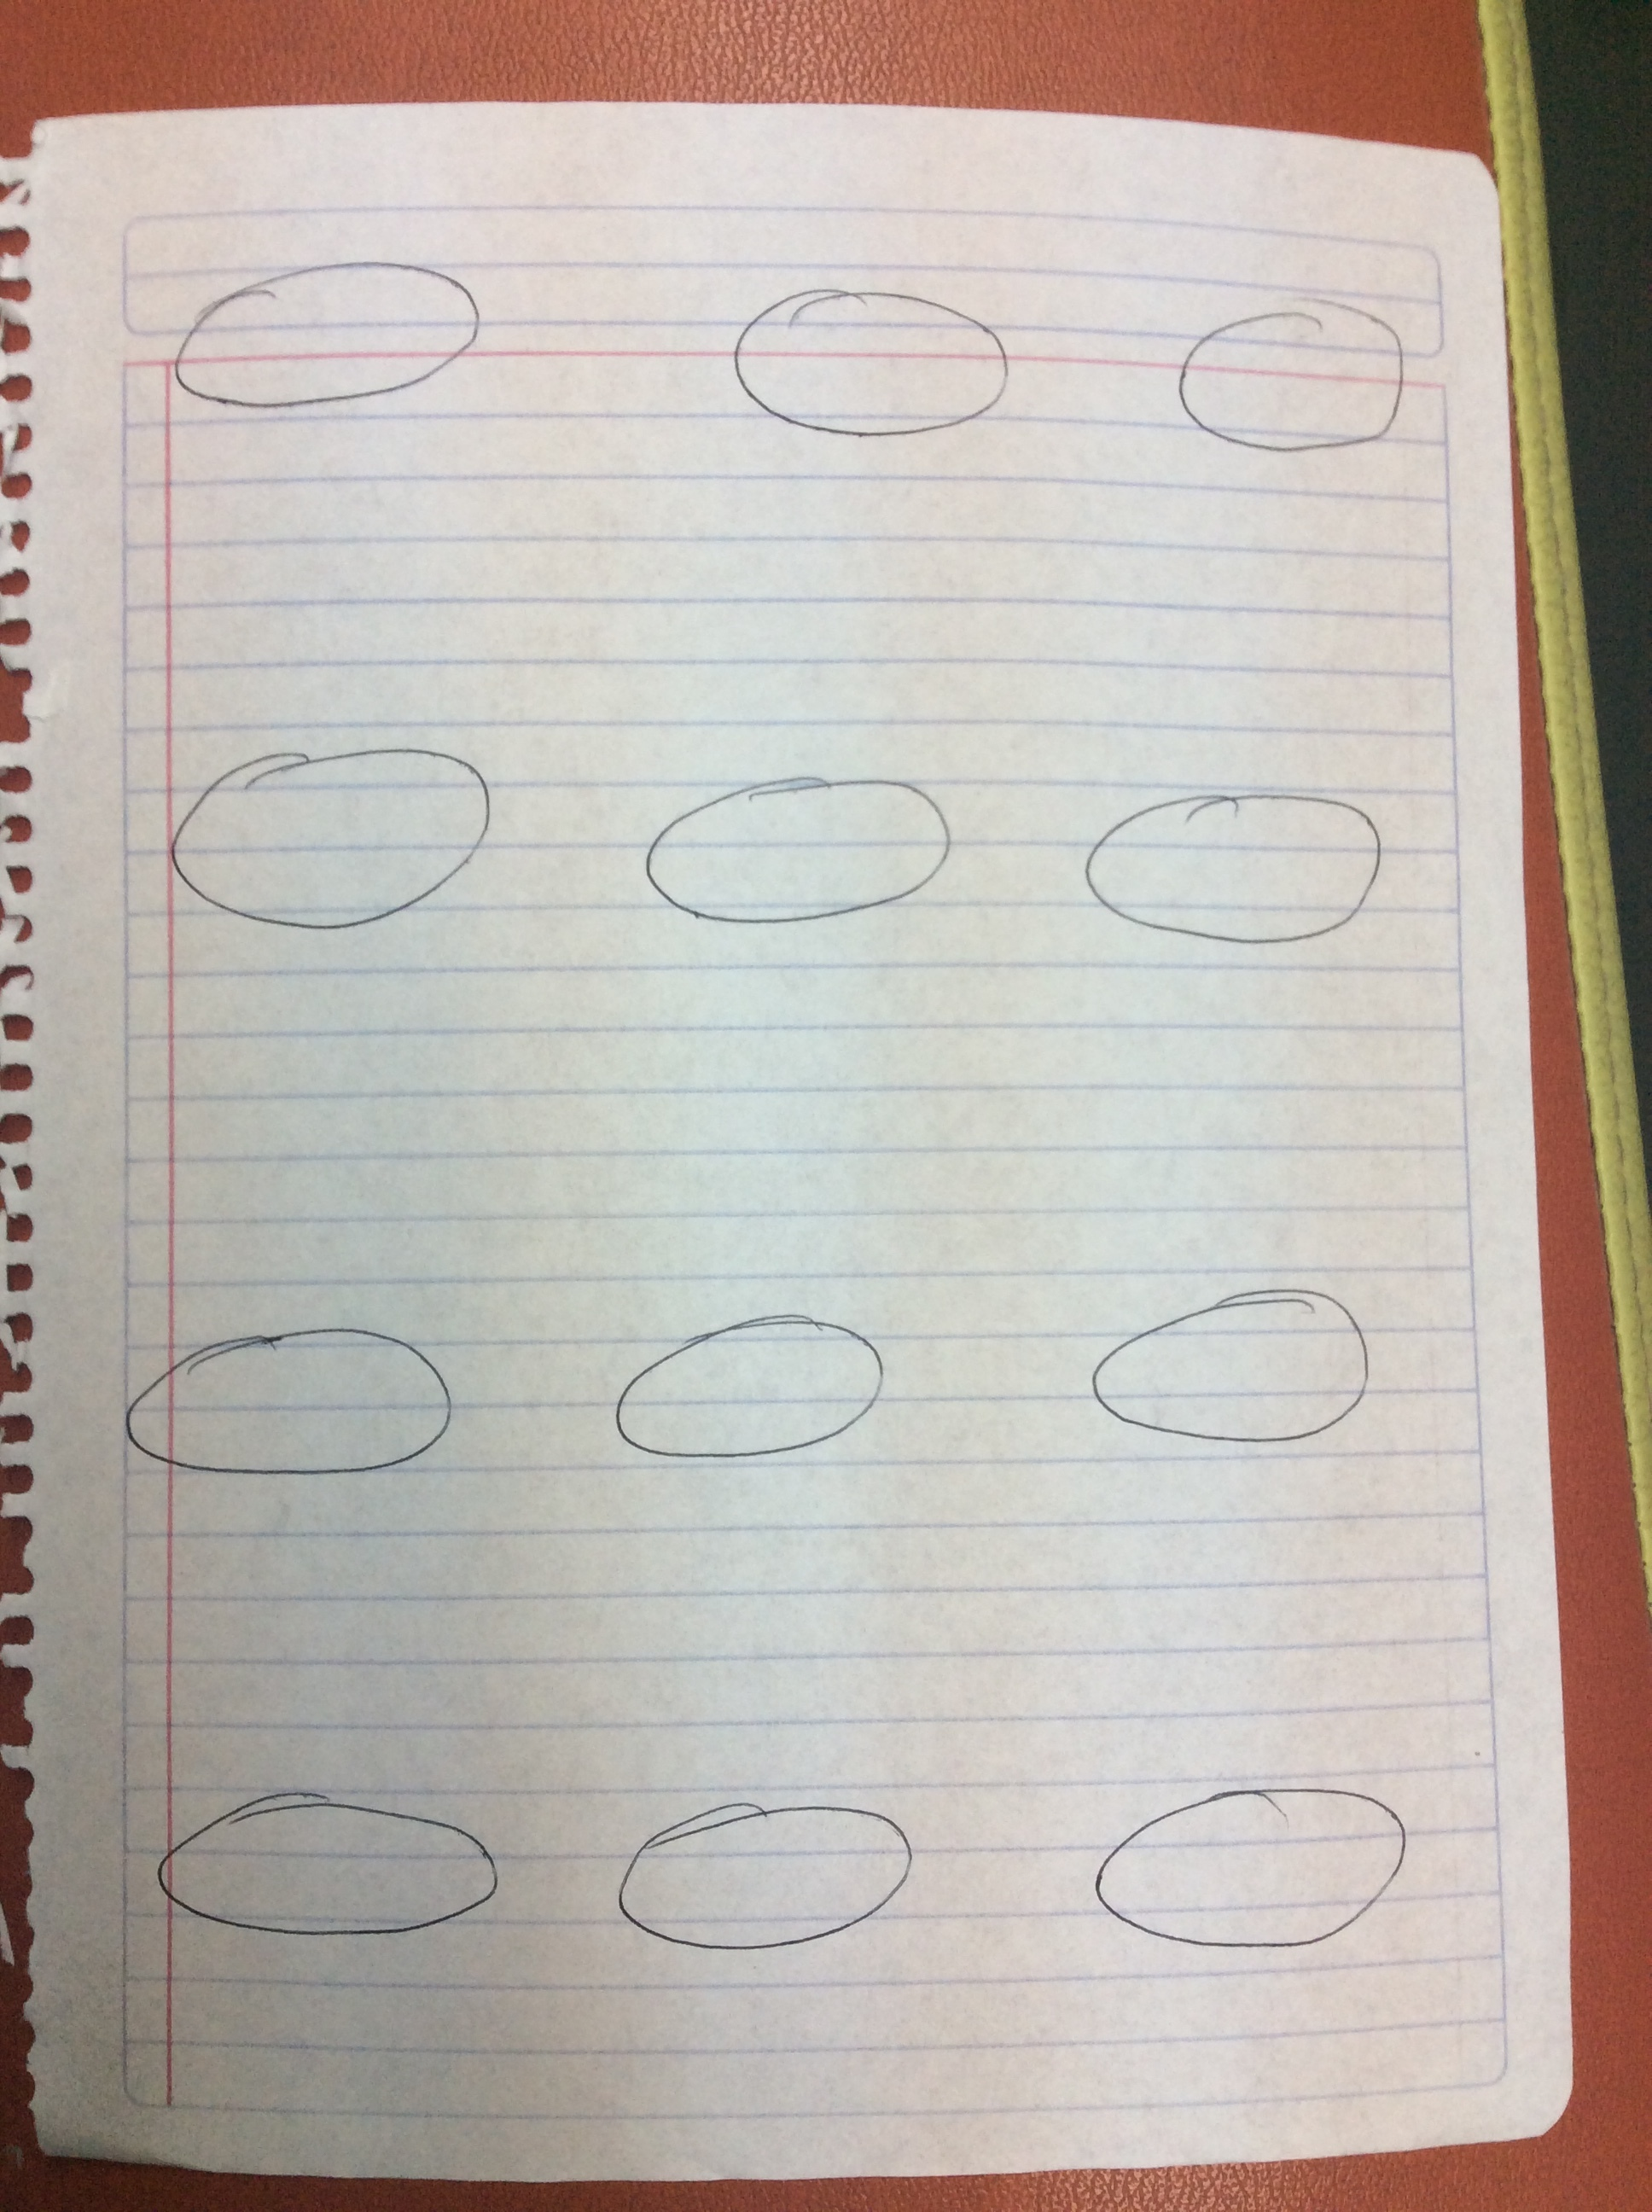start_end: (1050, 1761, 1445, 1986), (125, 723, 510, 952), (1032, 1263, 1411, 1482), (118, 1761, 514, 1966), (562, 1277, 913, 1506), (90, 1305, 472, 1506), (1053, 751, 1407, 963), (602, 748, 980, 946), (691, 260, 1029, 474), (574, 1782, 944, 1969), (146, 246, 514, 434), (1131, 264, 1449, 481)
